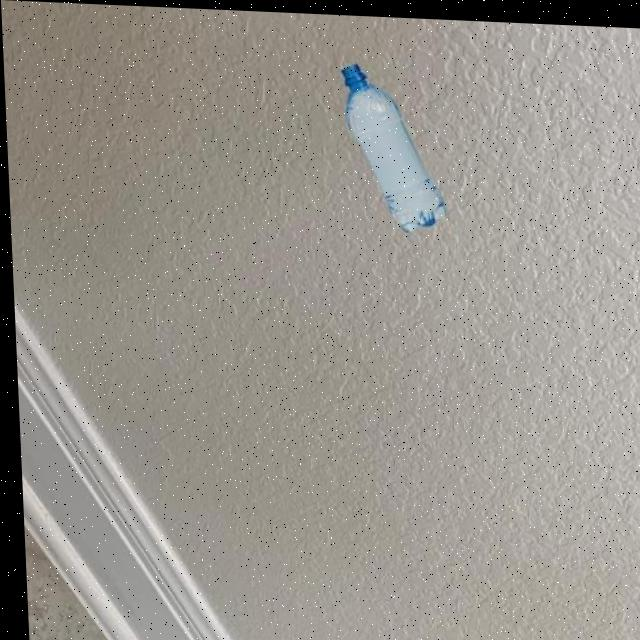bottle: (338, 58, 448, 230)
